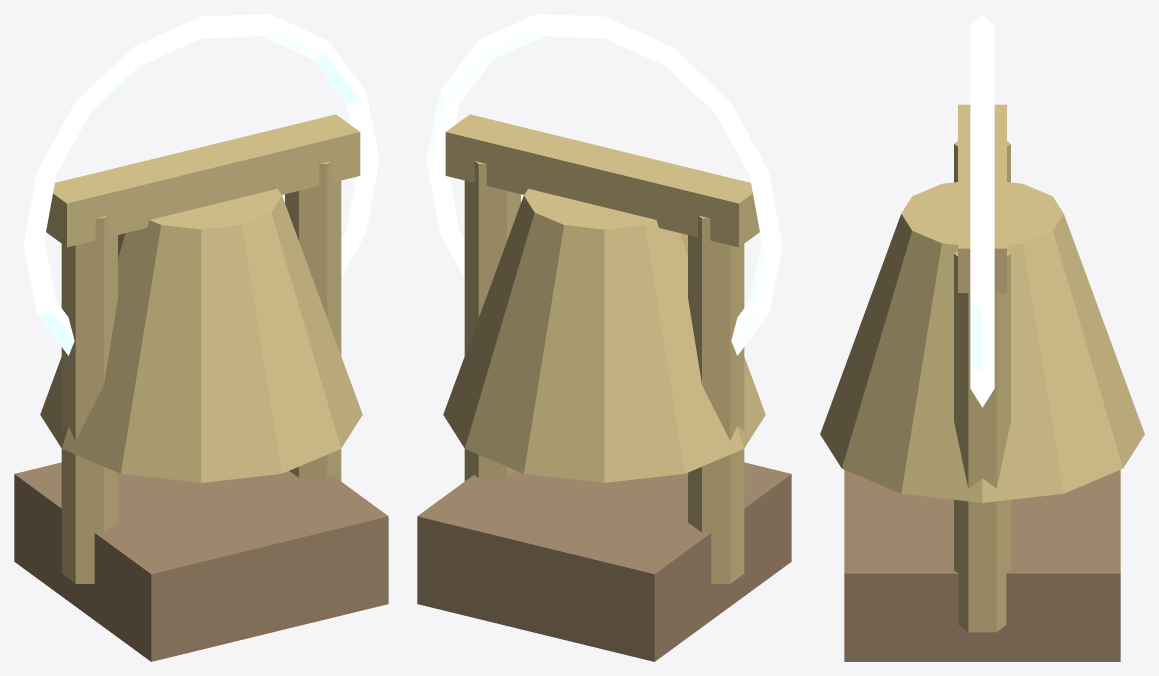
Rendered from turret_bell.glb.
The picture shows the model from 3 angles, left to right: view 1: azimuth 30°, elevation 25°; view 2: azimuth 150°, elevation 25°; view 3: azimuth 270°, elevation 25°; orthographic projection.
Visible parts, largest first — view 1: turret_bell; view 2: turret_bell; view 3: turret_bell.
Boxes of the visible parts, left/top/right/bottom form: turret_bell: left=14, top=14, right=388, bottom=661; turret_bell: left=417, top=14, right=791, bottom=661; turret_bell: left=820, top=14, right=1144, bottom=661.
Bounding box in the file's own units: 0.51 × 0.775 × 0.4.
